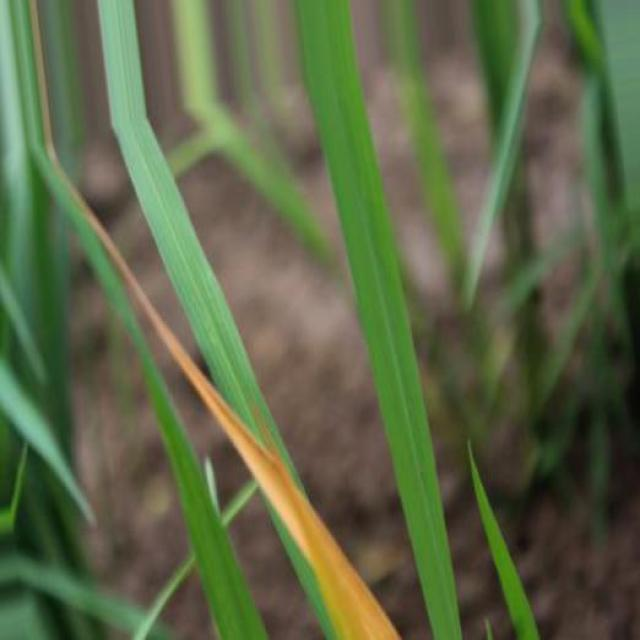Rice Tungro: (70, 187, 399, 638)
